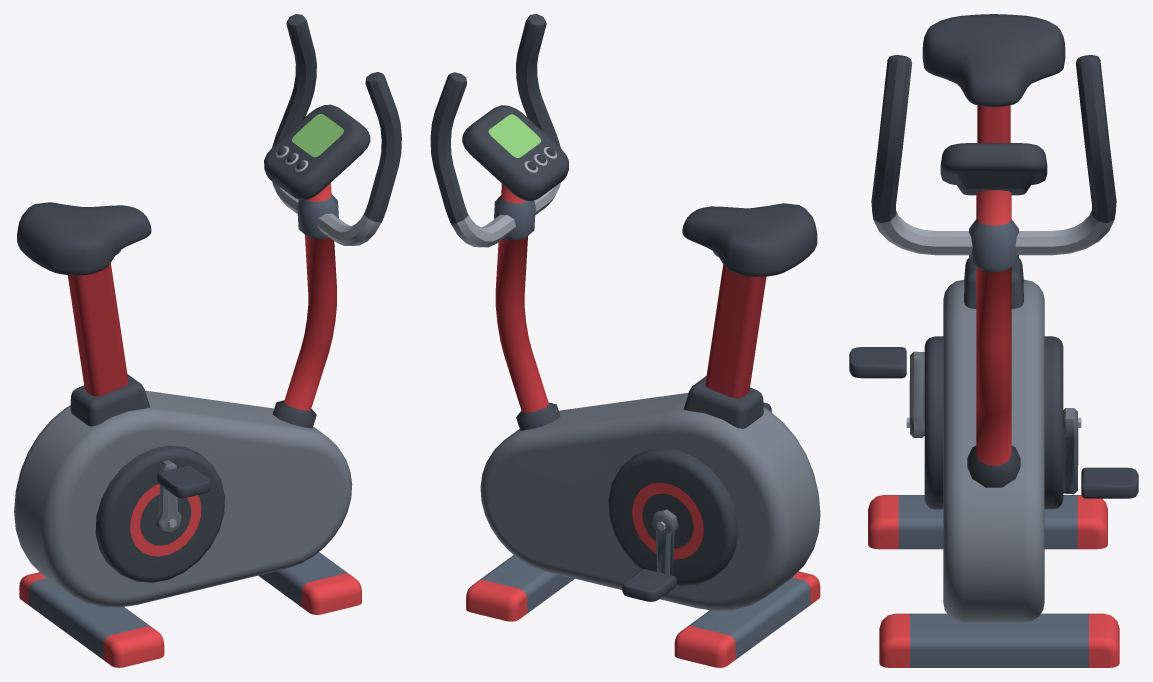
Rendered from bicicleta_ergometrica_pacote.glb.
3 views of the same model, side by side, from view 1: azimuth 30°, elevation 25°; view 2: azimuth 150°, elevation 25°; view 3: azimuth 270°, elevation 25° (orthographic). The views are drawn at different scales.
Parts seen in each view (by area): view 1: bicicleta_ergometrica_pacote; view 2: bicicleta_ergometrica_pacote; view 3: bicicleta_ergometrica_pacote.
Part boxes in pixels (box(x1,y1,x2,y2)): bicicleta_ergometrica_pacote: box(14, 14, 401, 667); bicicleta_ergometrica_pacote: box(430, 14, 820, 667); bicicleta_ergometrica_pacote: box(849, 14, 1138, 667).
Bounding box in the file's own units: 0.9357 × 1.41 × 0.5926.
1 material, 1 textured.
